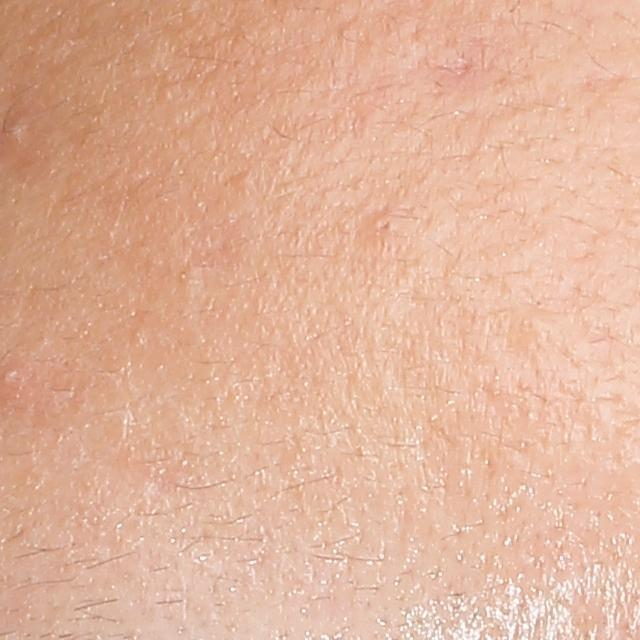comedo: (5, 114, 39, 150)
